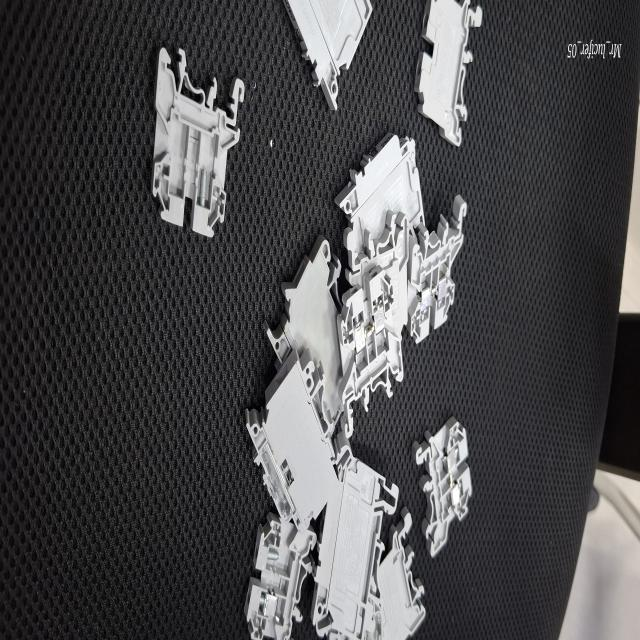Inverted: (409, 0, 491, 152), (370, 509, 430, 637)
Pass: (326, 215, 418, 398), (410, 414, 472, 563)
Reject: (137, 28, 260, 260), (240, 519, 318, 640)
